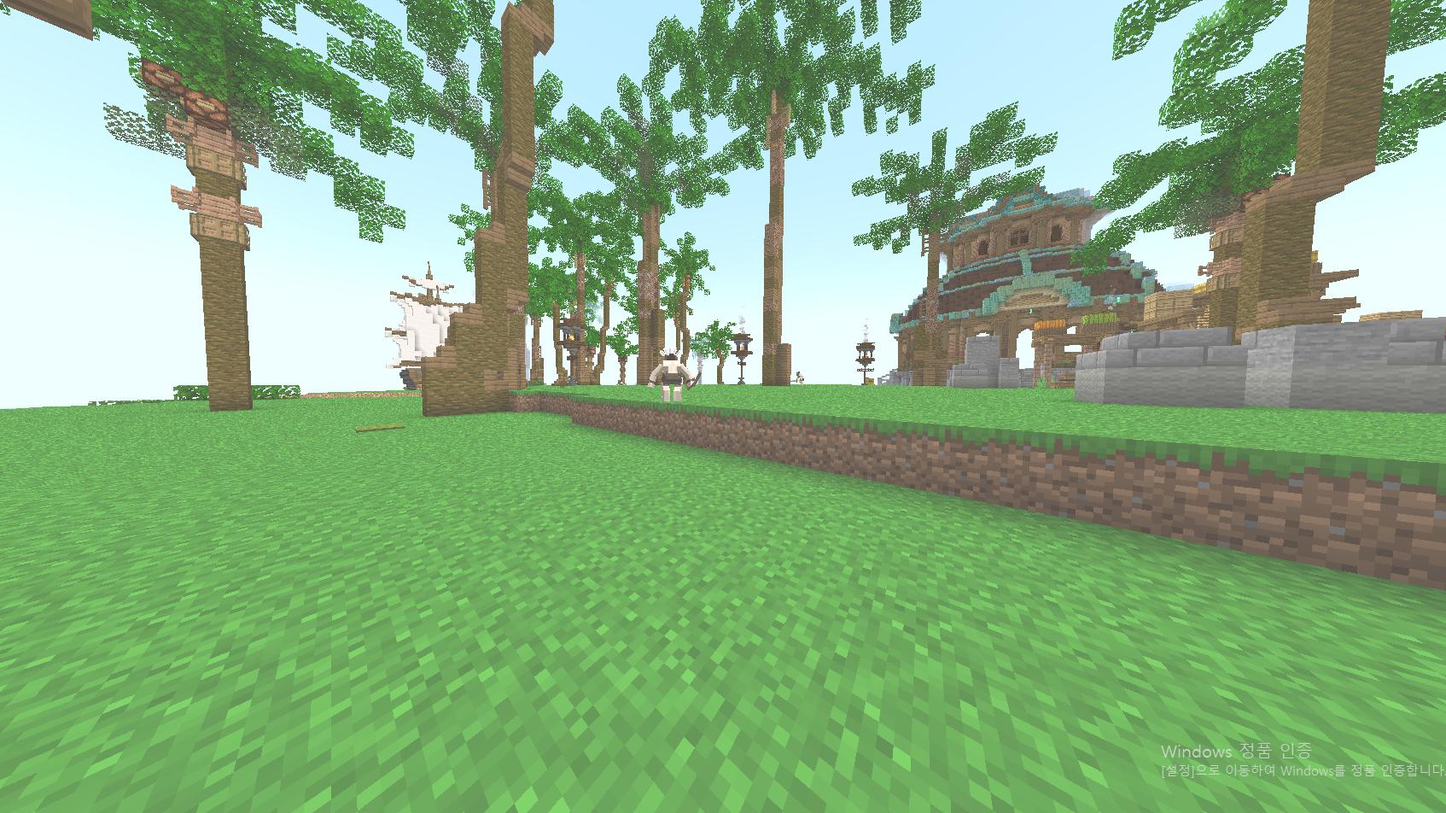bow_indian: (638, 334, 705, 414)
